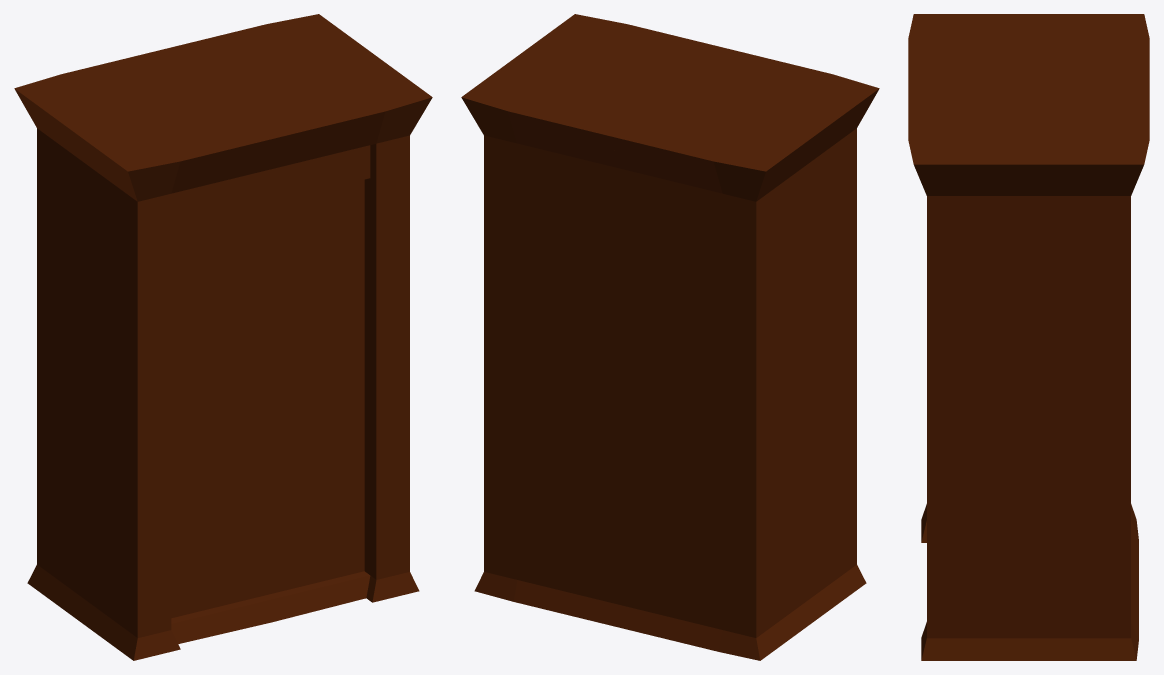
3 renders of one model, left to right at view 1: azimuth 30°, elevation 25°; view 2: azimuth 150°, elevation 25°; view 3: azimuth 270°, elevation 25°, orthographic.
Visible parts, largest first — view 1: Cube; view 2: Cube; view 3: Cube.
Part boxes in pixels (box(x1,y1,x2,y2)): Cube: box(14, 14, 432, 660); Cube: box(461, 14, 879, 660); Cube: box(908, 14, 1149, 660).
Size of the model in its own units: 349 by 544 by 236.
